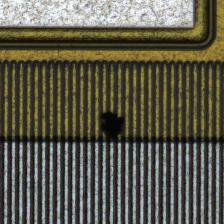PARTICLE: (93, 109, 129, 145)
